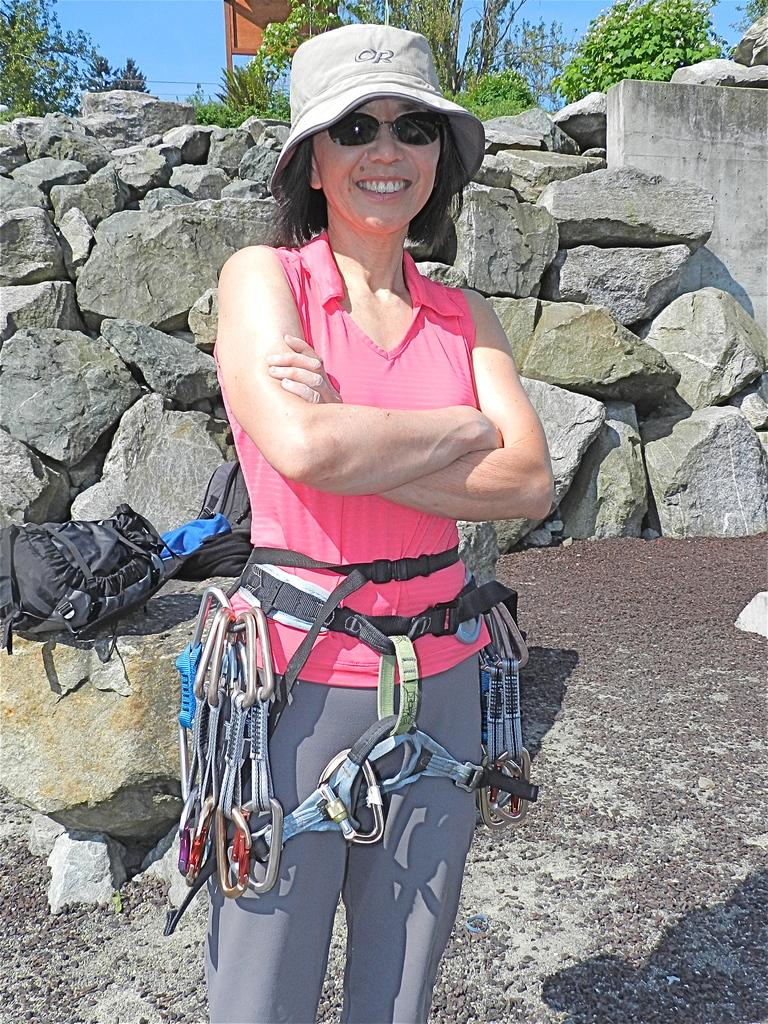Luggage-and-bags: (4, 487, 181, 653)
